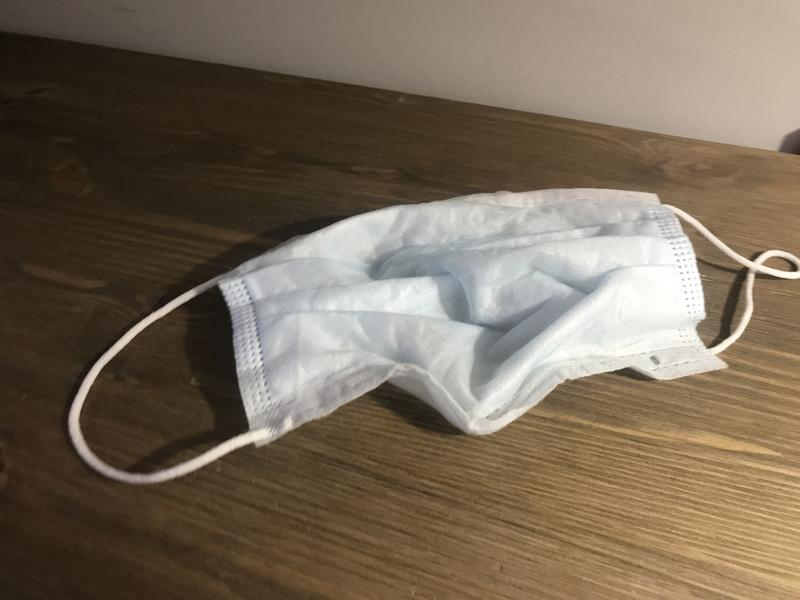medical_mask: (69, 187, 800, 482)
